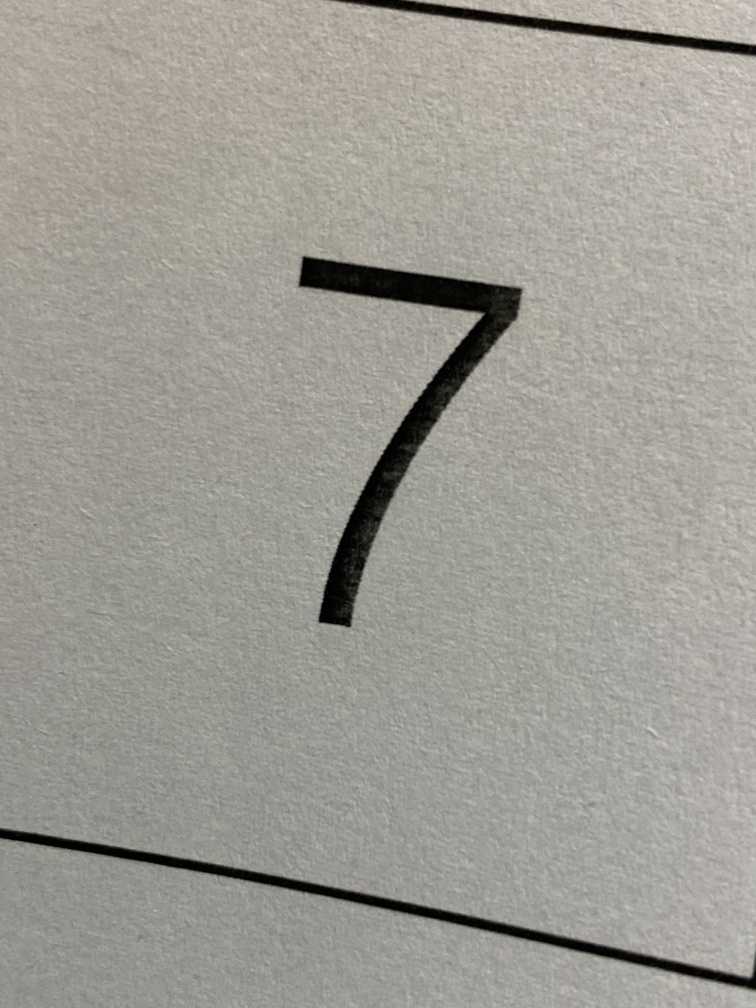seven: (208, 165, 607, 708)
